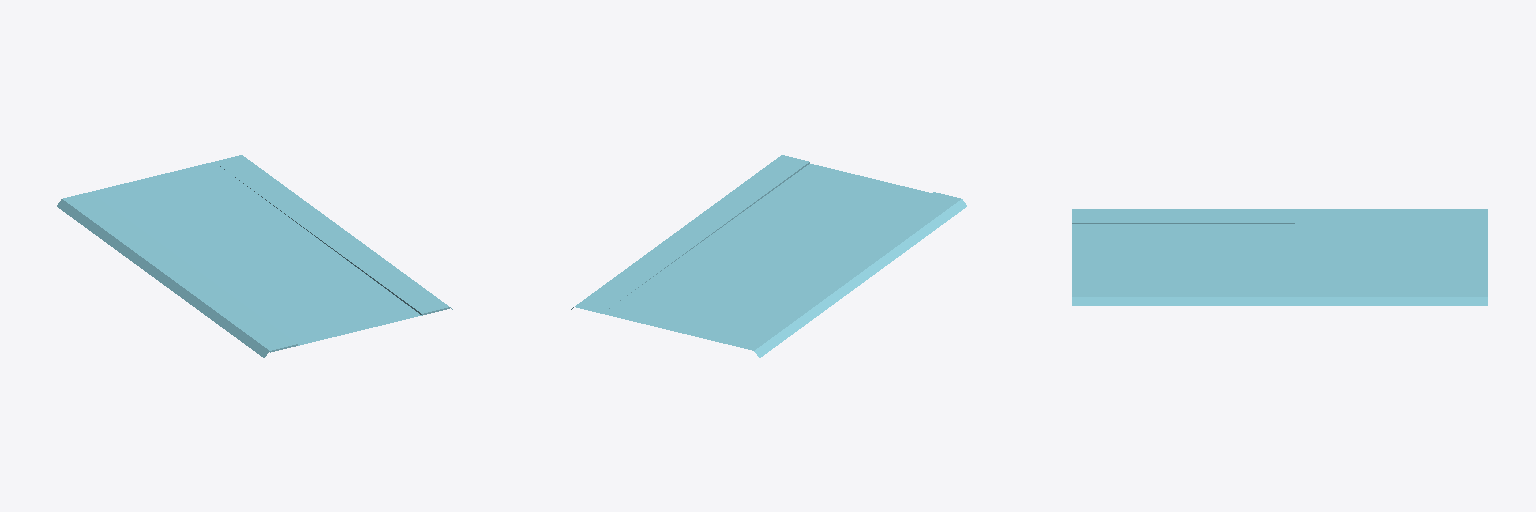
File: 6L_HW_Node_Ground.obj
3 renders of one model, left to right at view 1: azimuth 30°, elevation 25°; view 2: azimuth 150°, elevation 25°; view 3: azimuth 270°, elevation 25°, orthographic.
Parts seen in each view (by area): view 1: Plane005; view 2: Plane005; view 3: Plane005.
Boxes of the visible parts, x1=… form: Plane005: x1=57, y1=155, x2=452, y2=357; Plane005: x1=571, y1=155, x2=966, y2=357; Plane005: x1=1072, y1=209, x2=1487, y2=305.
Size of the model in its own units: 34 by 1.05 by 64.